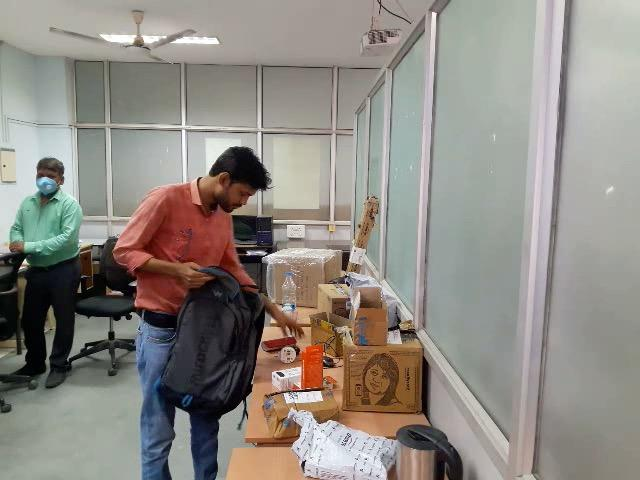shoplifting: (101, 204, 361, 440)
